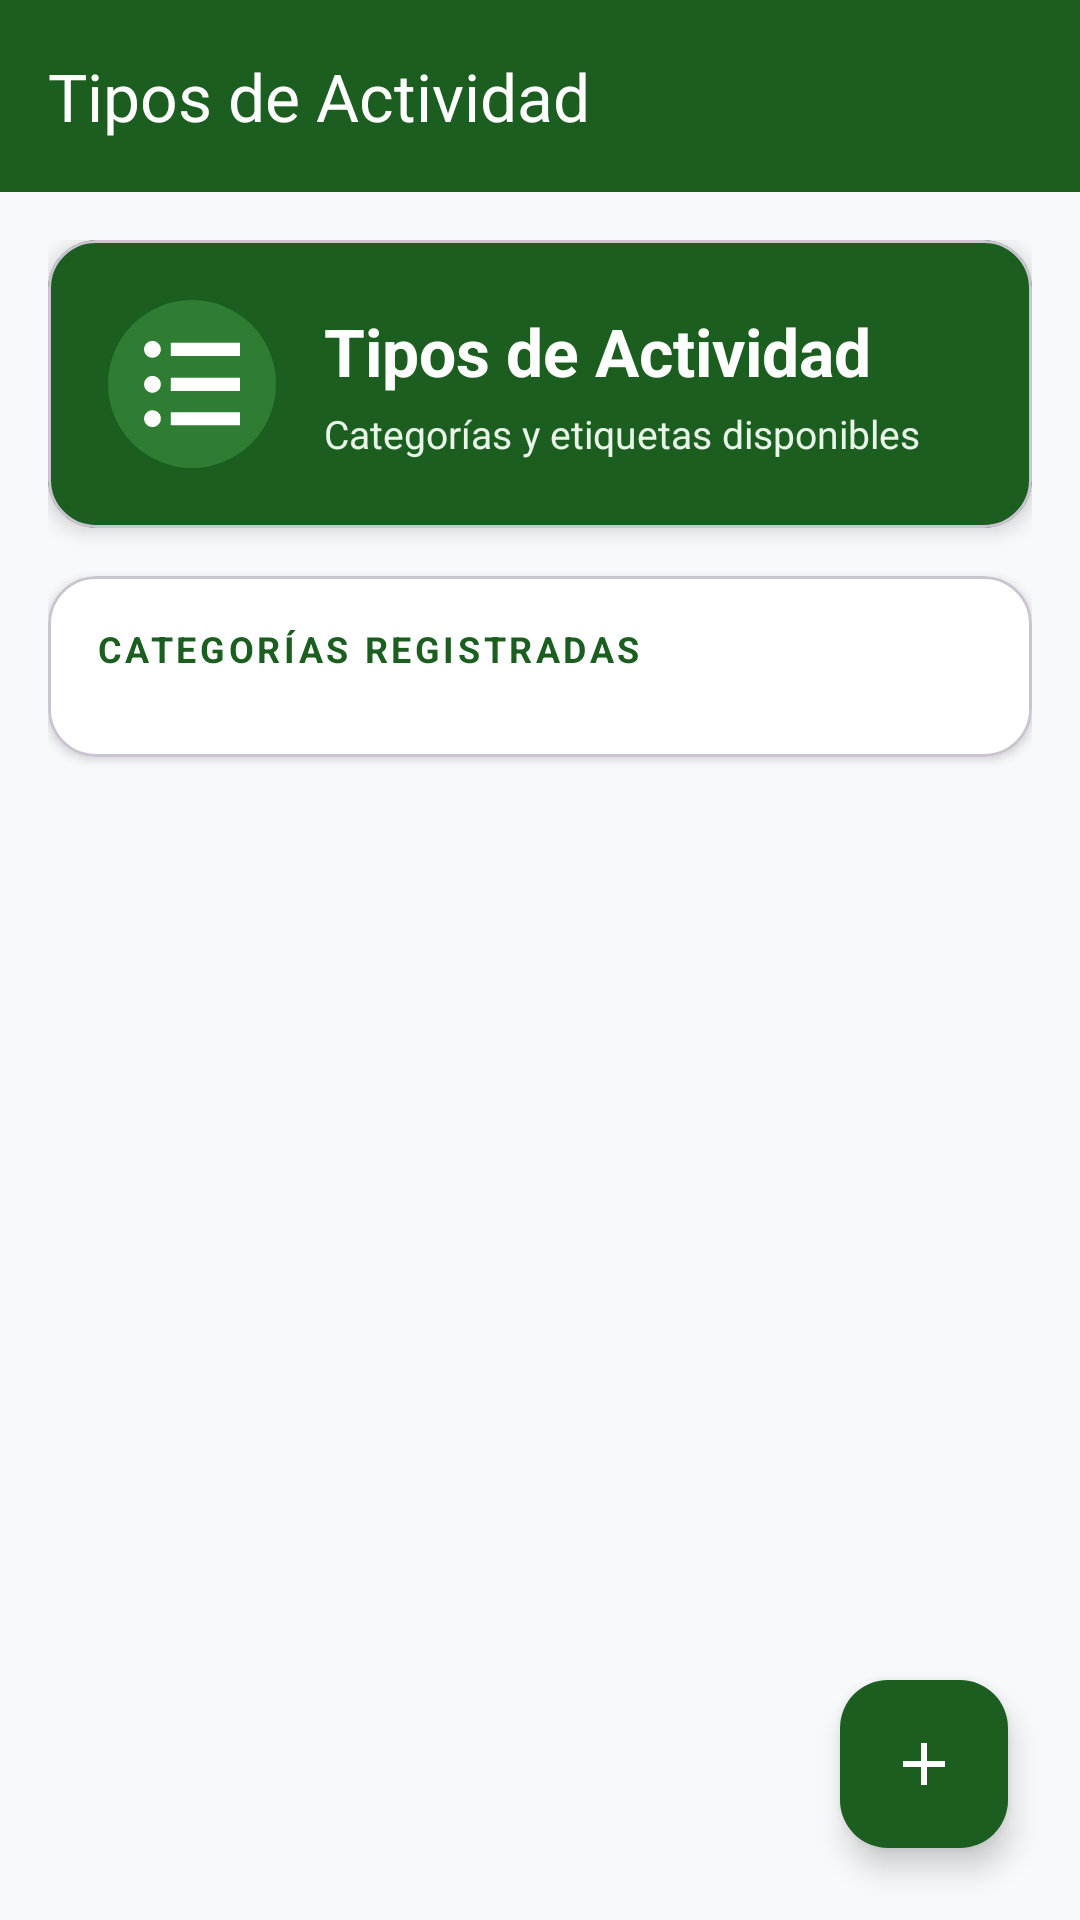

Icon click points for this 1080×1920 phone screenshot, format (x=x, y=y):
Agregar tipo: (x=924, y=1764)
list: (x=192, y=384)
